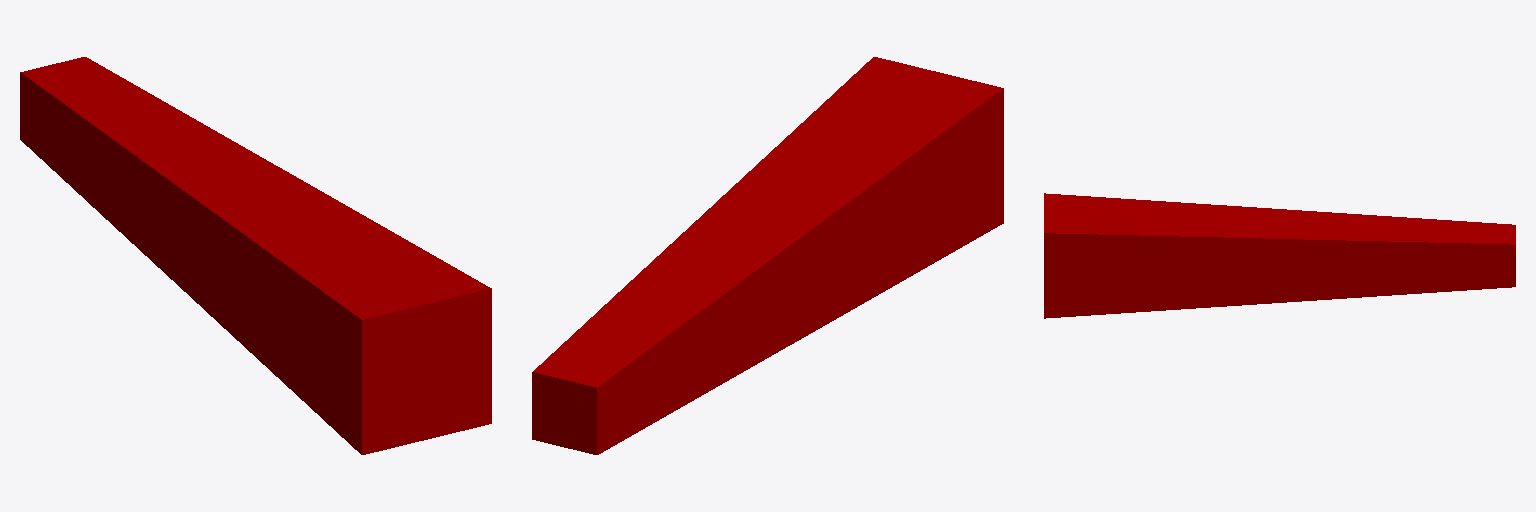
The robot description file, URDF, robot "occlusion_body":
<?xml version="1.0"?>
<robot name="occlusion_body">
  <link name="occlusion_link">
    <!-- Visual -->
    <visual>
      <origin xyz="0 0 0" rpy="0 0 0" />
      <geometry>
        <mesh filename="occlusion_body.obj" scale="1 1 1"/>
      </geometry>
      <material name="red">
        <color rgba="0.7 0.0 0.0 0.5"/>
      </material>
    </visual>

    <!-- Collision -->
    <collision>
      <origin xyz="0 0 0" rpy="0 0 0" />
      <geometry>
        <mesh filename="occlusion_body.obj" scale="1 1 1"/>
      </geometry>
    </collision>

    <!-- Inertial (approximate) -->
    <inertial>
      <mass value="1.0"/>
      <inertia ixx="0.01" ixy="0.0" ixz="0.0"
               iyy="0.01" iyz="0.0"
               izz="0.01"/>
    </inertial>
  </link>
</robot>

--- What the picture shows (computed from the rendered views, not written in the file) ---
3 views of the same robot in one strip: view 1: azimuth 30°, elevation 25°; view 2: azimuth 150°, elevation 25°; view 3: azimuth 270°, elevation 25° (orthographic).
Robot: occlusion_body — 1 links, 0 joints (none); root link occlusion_link; default pose: all joints at 0.
Links seen in each view (by area): view 1: occlusion_link; view 2: occlusion_link; view 3: occlusion_link.
Boxes of the visible links, bbox=[...] form: occlusion_link: bbox=[20, 57, 491, 454]; occlusion_link: bbox=[532, 57, 1003, 454]; occlusion_link: bbox=[1044, 193, 1515, 318].
Bounding box of the posed robot: 0.2 × 1 × 0.2 m (x, y, z).
1 mesh visuals loaded from 1 distinct referenced files (1 OBJ).